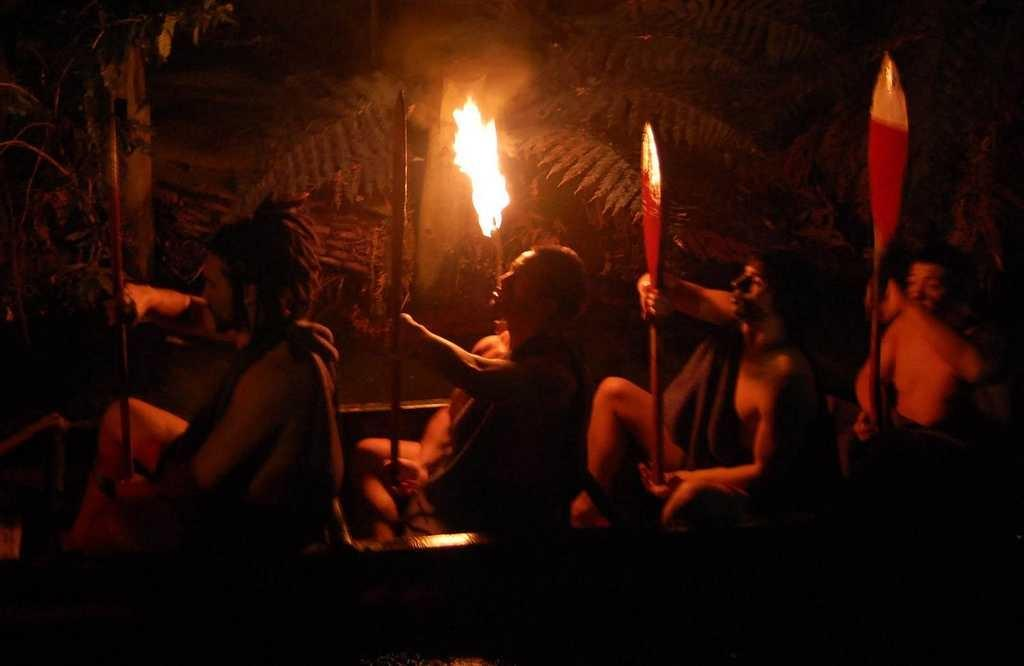fire: (465, 117, 505, 212)
